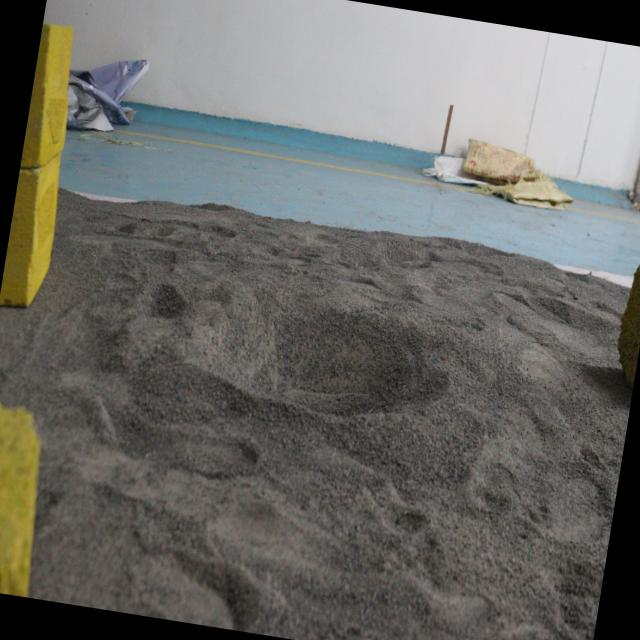crater: (156, 259, 465, 466)
